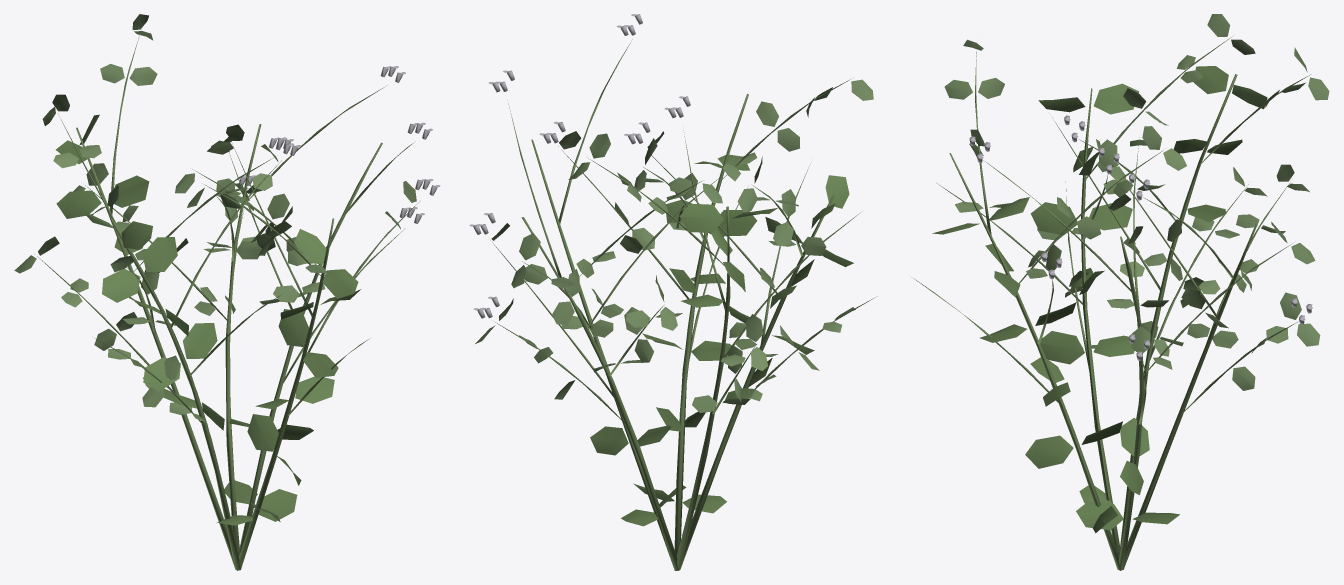
File: Nepita_0_Niveau1.fbx
The picture shows the model from 3 angles, left to right: view 1: azimuth 30°, elevation 25°; view 2: azimuth 150°, elevation 25°; view 3: azimuth 270°, elevation 25°; orthographic projection. The views are drawn at different scales.
Visible parts, largest first — view 1: Nepita_0_Niveau1; view 2: Nepita_0_Niveau1; view 3: Nepita_0_Niveau1.
Boxes of the visible parts, bbox=[...] form: Nepita_0_Niveau1: bbox=[14, 14, 440, 570]; Nepita_0_Niveau1: bbox=[469, 14, 877, 570]; Nepita_0_Niveau1: bbox=[913, 14, 1329, 570].
Size of the model in its own units: 20.62 by 26.5 by 19.62.
